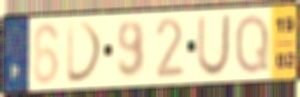2: (153, 16, 186, 81)
6: (31, 20, 63, 87)
9: (115, 18, 147, 82)
D: (65, 20, 105, 86)
Q: (233, 11, 271, 77)
U: (195, 12, 233, 78)
